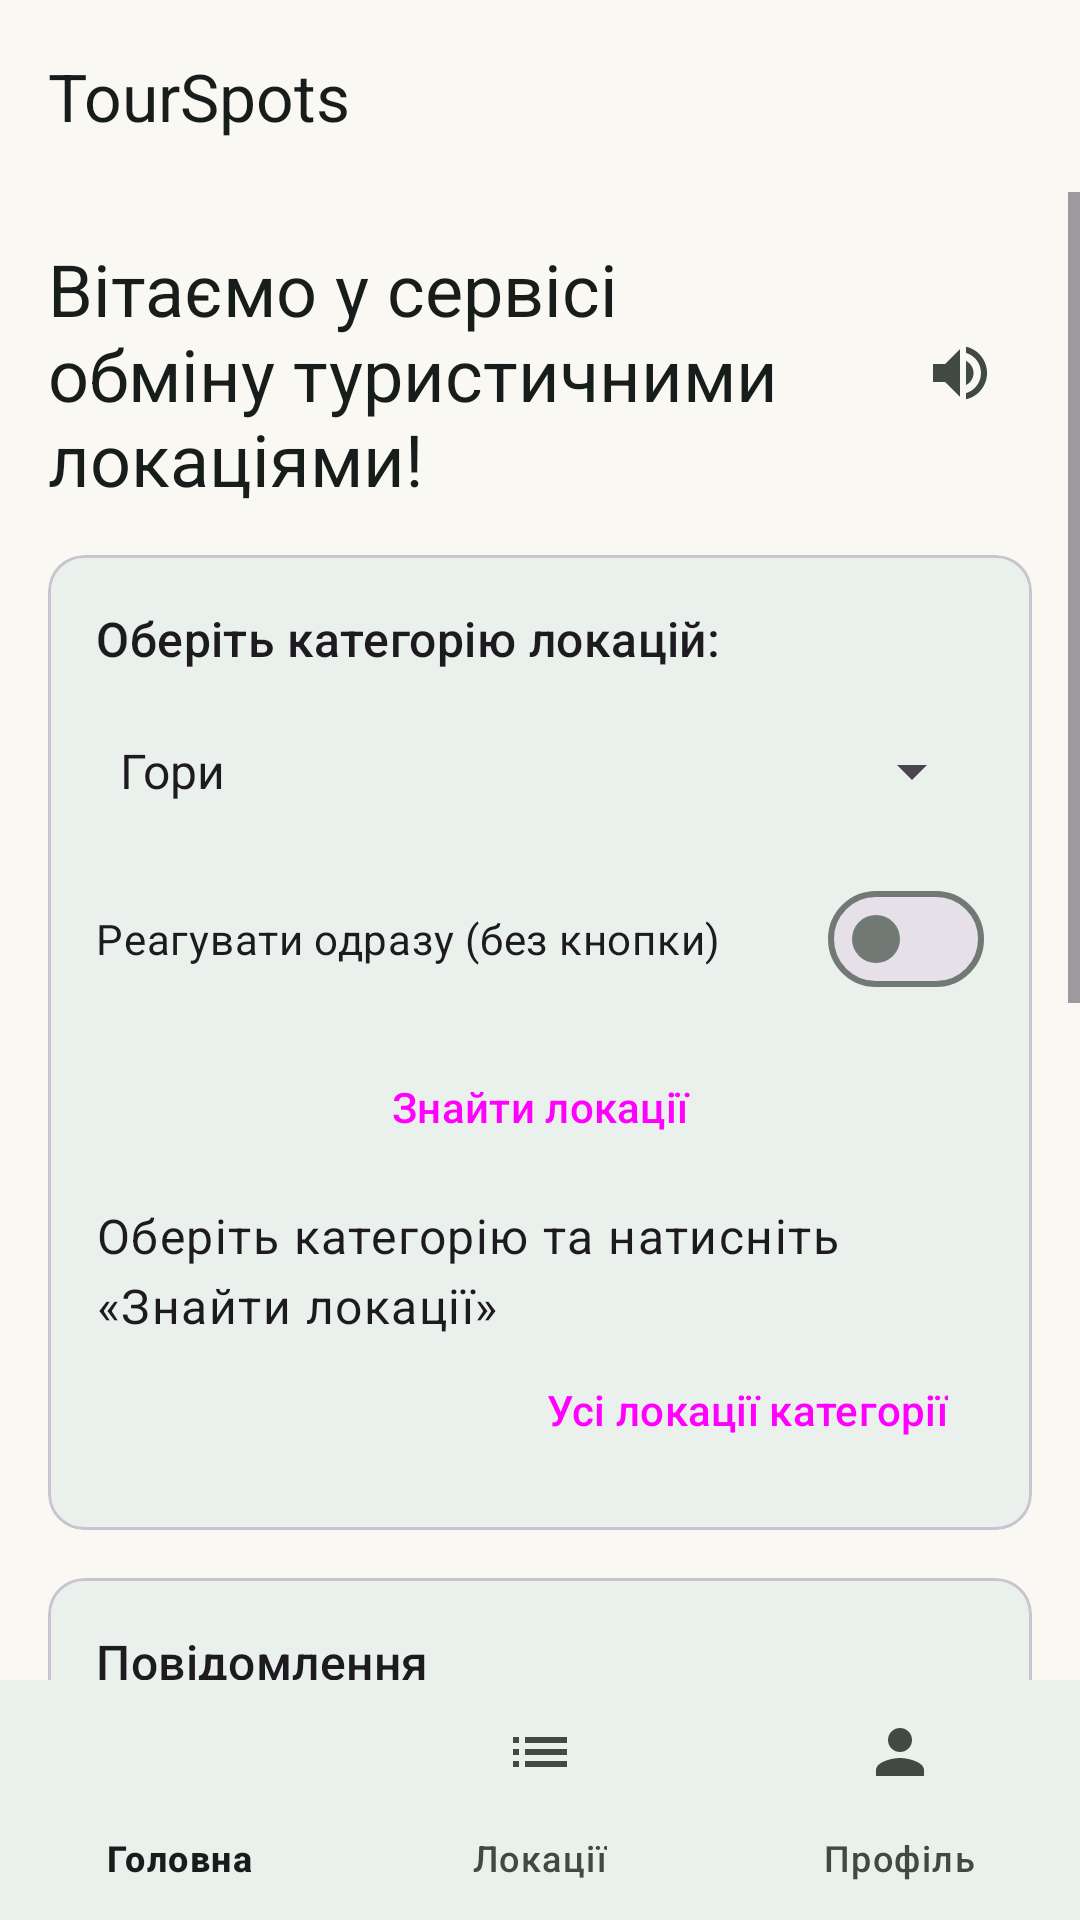

Point at icon controls on the screen. Image size 1080px×1920px, points as point (x, y).
Відтворити звук: point (960, 373)
